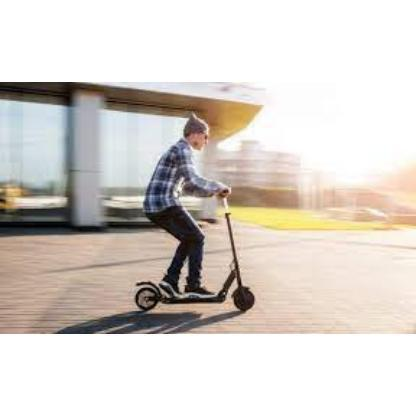with scooter: (135, 112, 255, 312)
